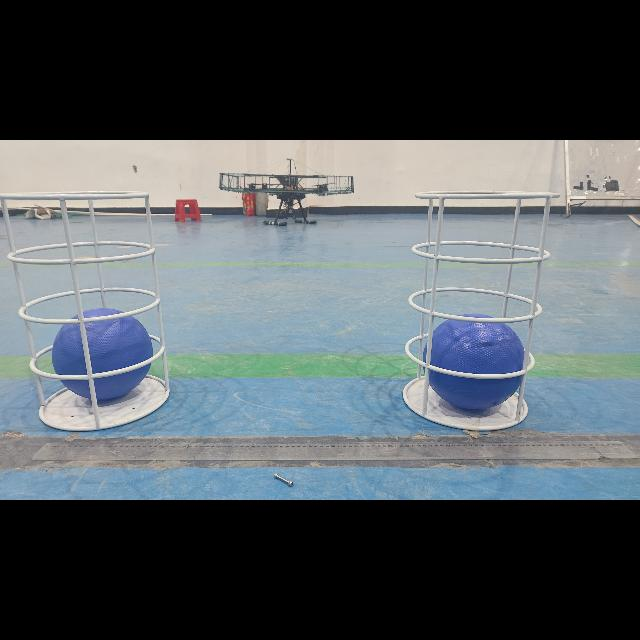B: (422, 314, 526, 410), (51, 308, 153, 400)
S: (0, 190, 176, 436), (400, 183, 560, 435)
